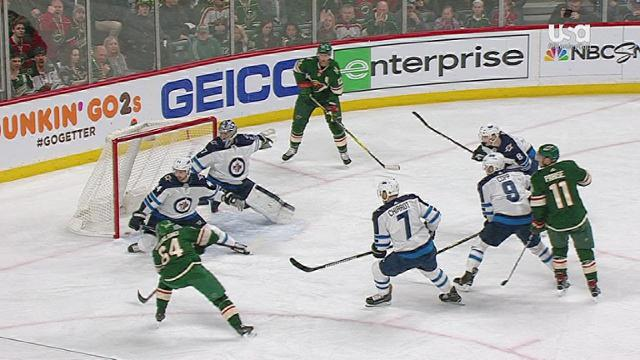geico: (162, 55, 309, 122)
